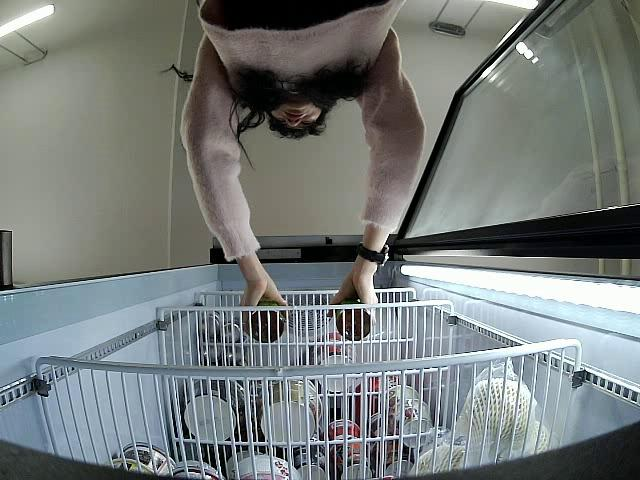00_hand: (323, 270, 379, 316), (239, 273, 296, 316)
19_17cha: (331, 293, 373, 341), (248, 300, 289, 346)
